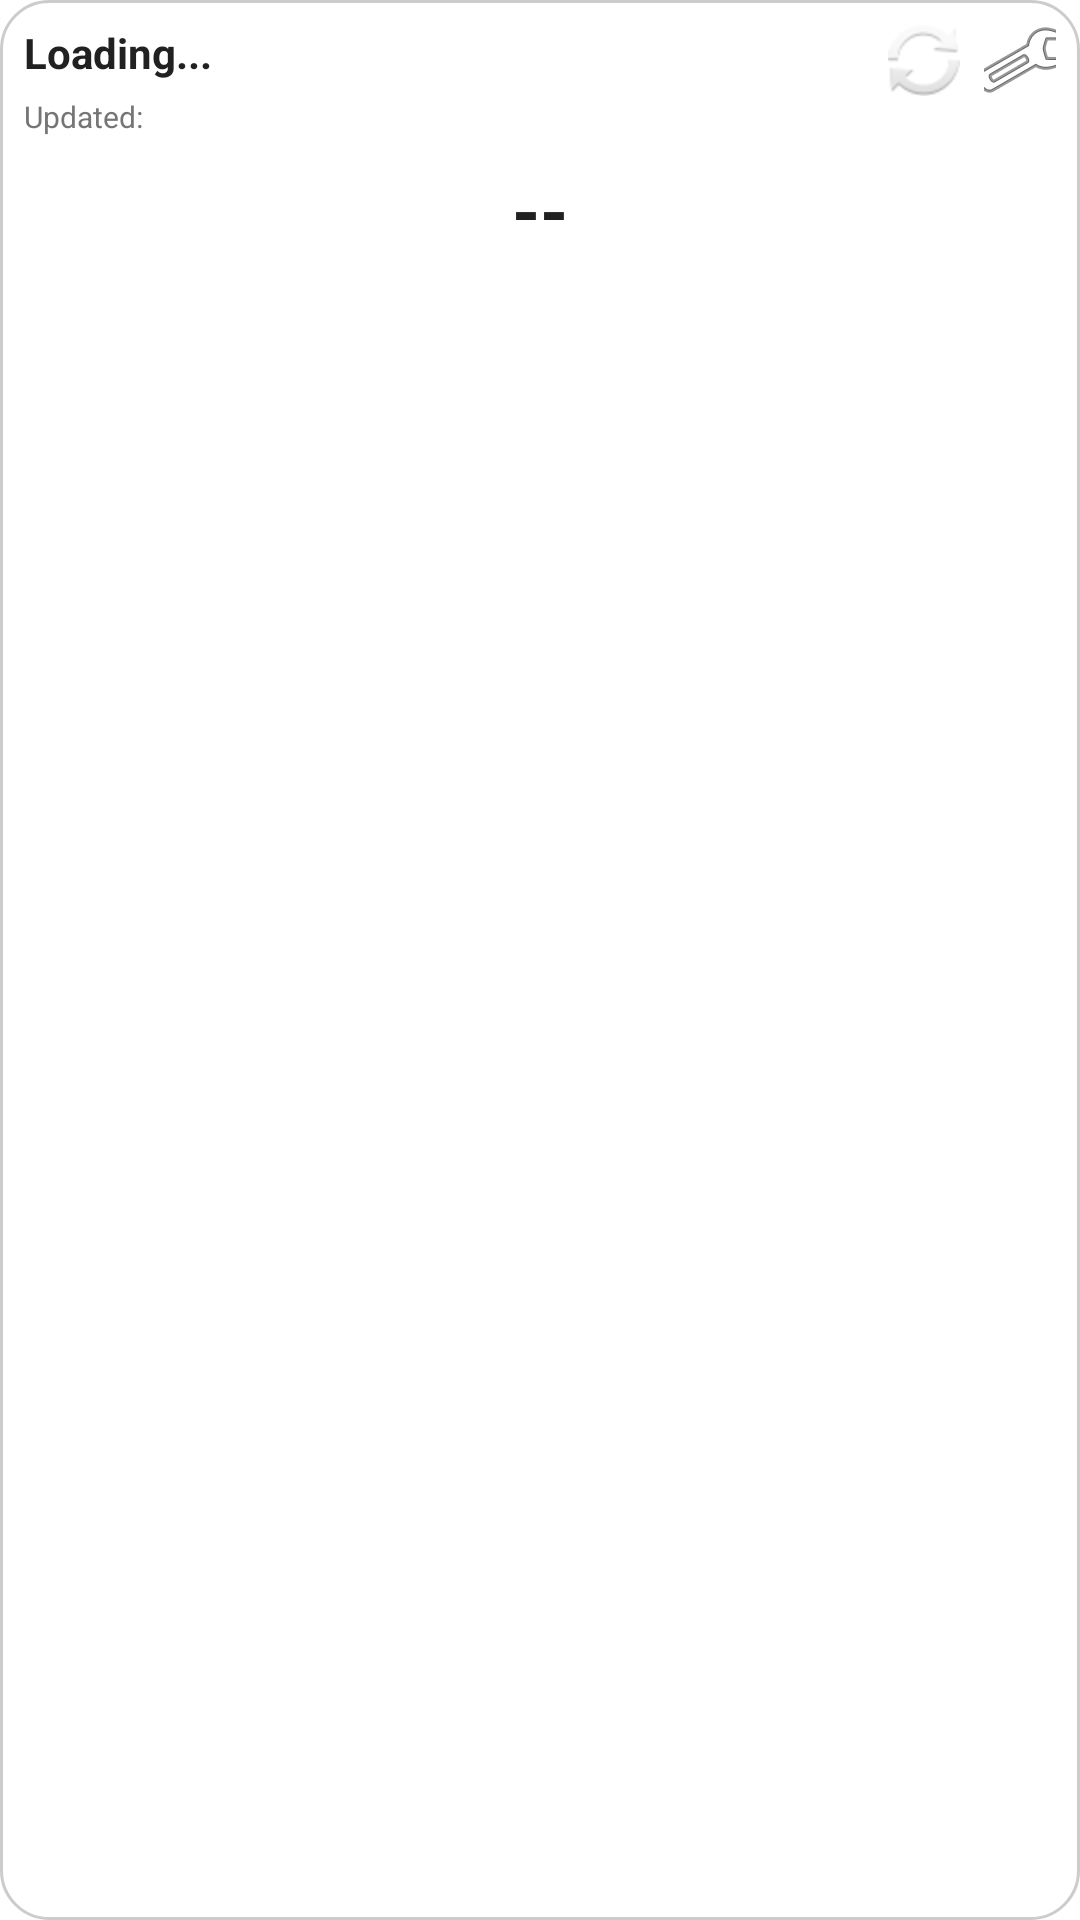

Icons on this 1080w x 1920h Android screen, each with its box as (x1, y1, x2, y2):
Configuration: (984, 27, 1056, 93)
Refresh: (888, 32, 959, 96)
